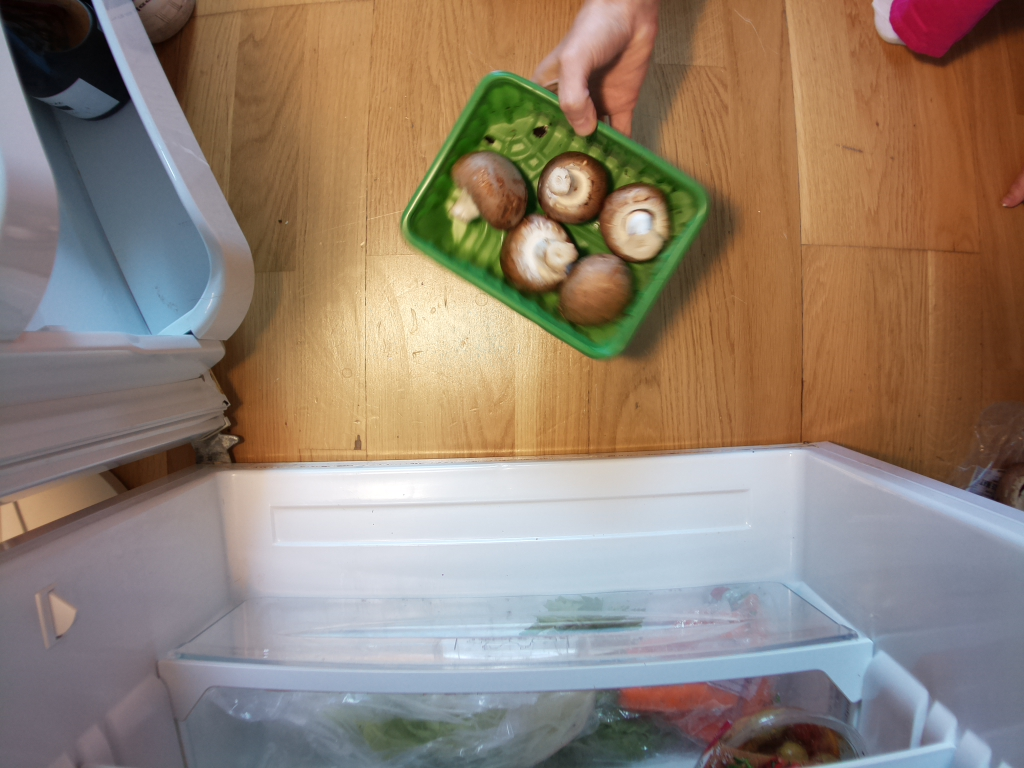mushrooms: (401, 67, 713, 363)
